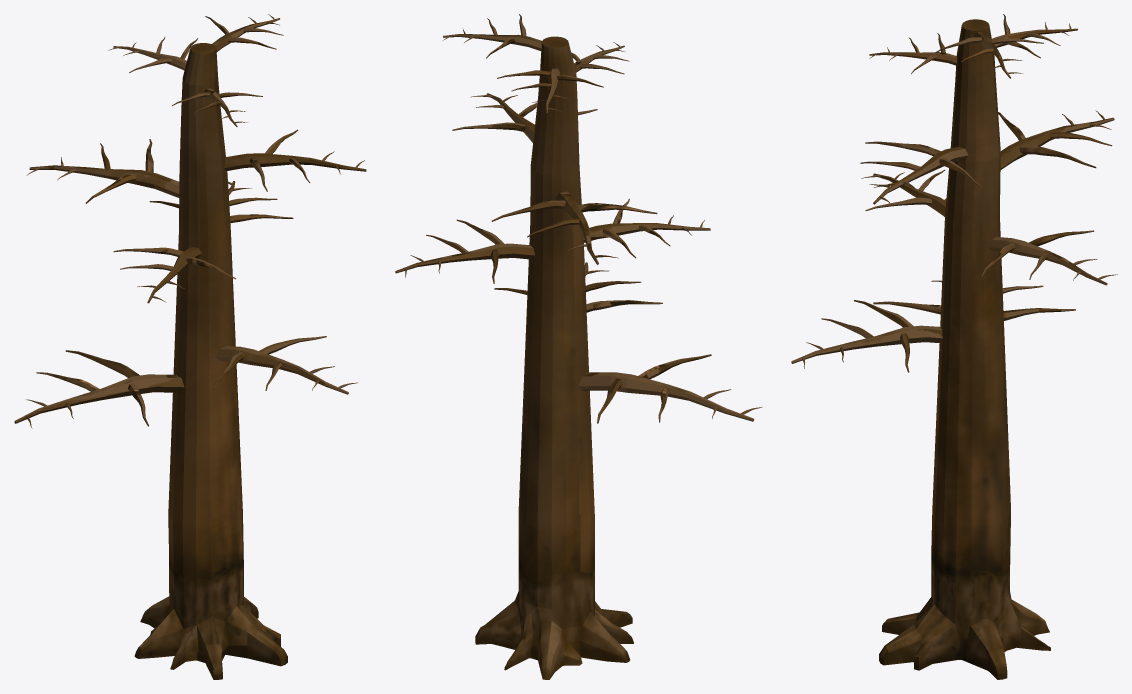
The model's file is Tree_1.glb.
The picture shows the model from 3 angles, left to right: view 1: azimuth 30°, elevation 25°; view 2: azimuth 150°, elevation 25°; view 3: azimuth 270°, elevation 25°; orthographic projection. The views are drawn at different scales.
Parts seen in each view (by area): view 1: Treelog_1, TreeRoot_1; view 2: Treelog_1, TreeRoot_1; view 3: Treelog_1, TreeRoot_1.
Boxes of the visible parts, x1=… form: Treelog_1: x1=14, y1=14, x2=366, y2=579; TreeRoot_1: x1=134, y1=559, x2=287, y2=679; Treelog_1: x1=395, y1=14, x2=762, y2=581; TreeRoot_1: x1=475, y1=559, x2=633, y2=679; Treelog_1: x1=791, y1=14, x2=1117, y2=577; TreeRoot_1: x1=879, y1=556, x2=1050, y2=679.
Size of the model in its own units: 4.31 by 7.85 by 3.71.
1 material, 1 textured.
